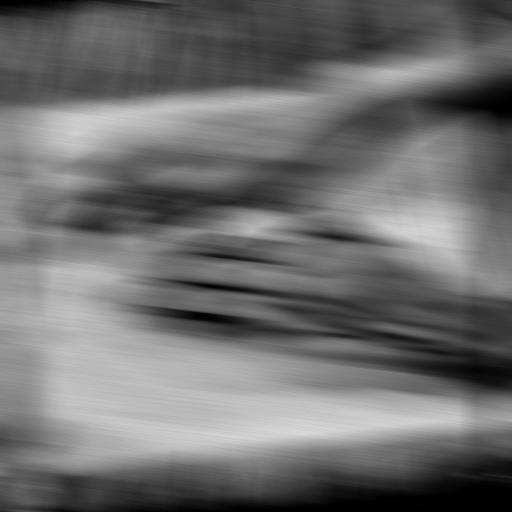bottom_right: (426, 67, 459, 77)
door: (0, 126, 496, 351)
top_right: (17, 104, 52, 115)
